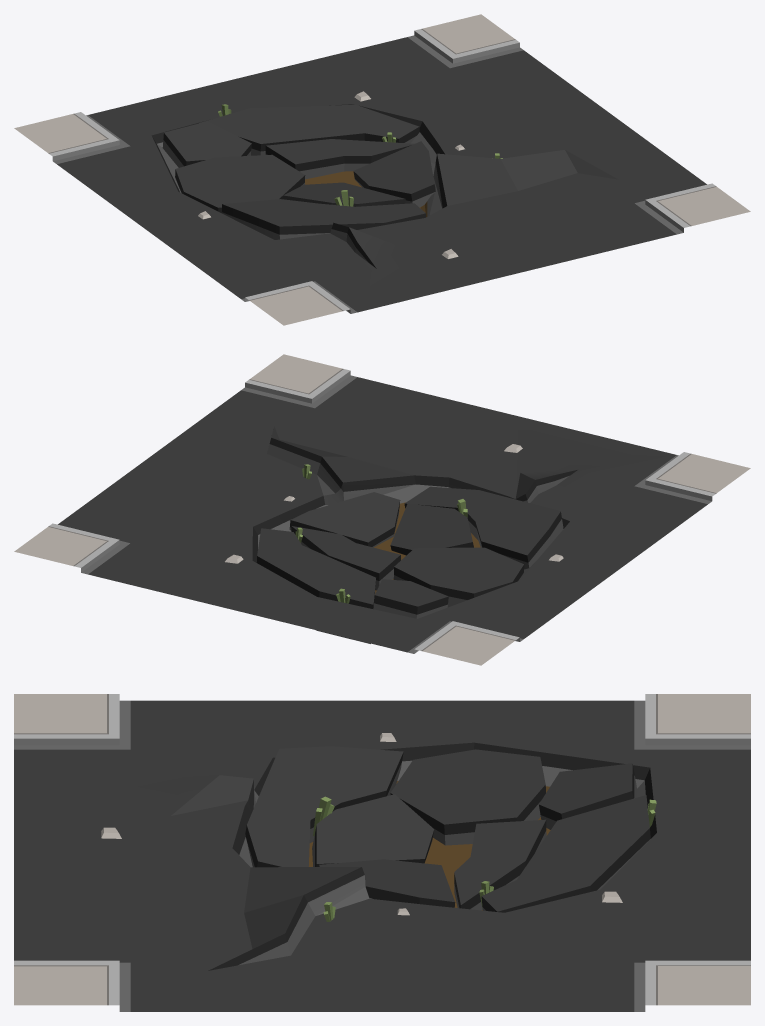
Rendered from SA_Env_Road_Cross_01.gltf.
The picture shows the model from 3 angles, top to bottom: view 1: azimuth 30°, elevation 25°; view 2: azimuth 150°, elevation 25°; view 3: azimuth 270°, elevation 25°; orthographic projection. The views are drawn at different scales.
Parts seen in each view (by area): view 1: SA_Env_Road_Cross_01; view 2: SA_Env_Road_Cross_01; view 3: SA_Env_Road_Cross_01.
Boxes of the visible parts, x1=… form: SA_Env_Road_Cross_01: x1=14, y1=14, x2=750, y2=325; SA_Env_Road_Cross_01: x1=14, y1=354, x2=750, y2=665; SA_Env_Road_Cross_01: x1=14, y1=694, x2=750, y2=1011.
Size of the model in its own units: 20 by 2.72 by 20.
1 material, 1 textured.
